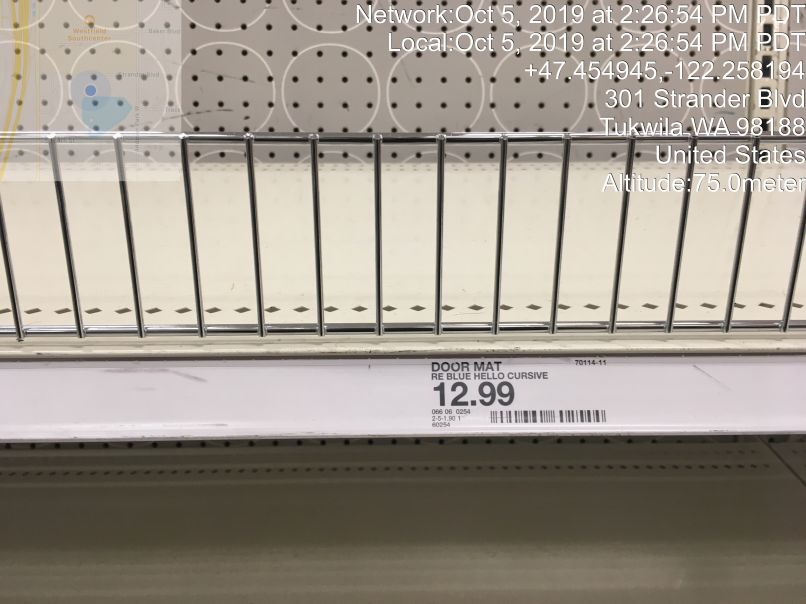Label: (425, 355, 626, 434)
Location: (593, 83, 806, 169)
Time: (347, 2, 806, 58)
Void: (13, 23, 806, 321)
